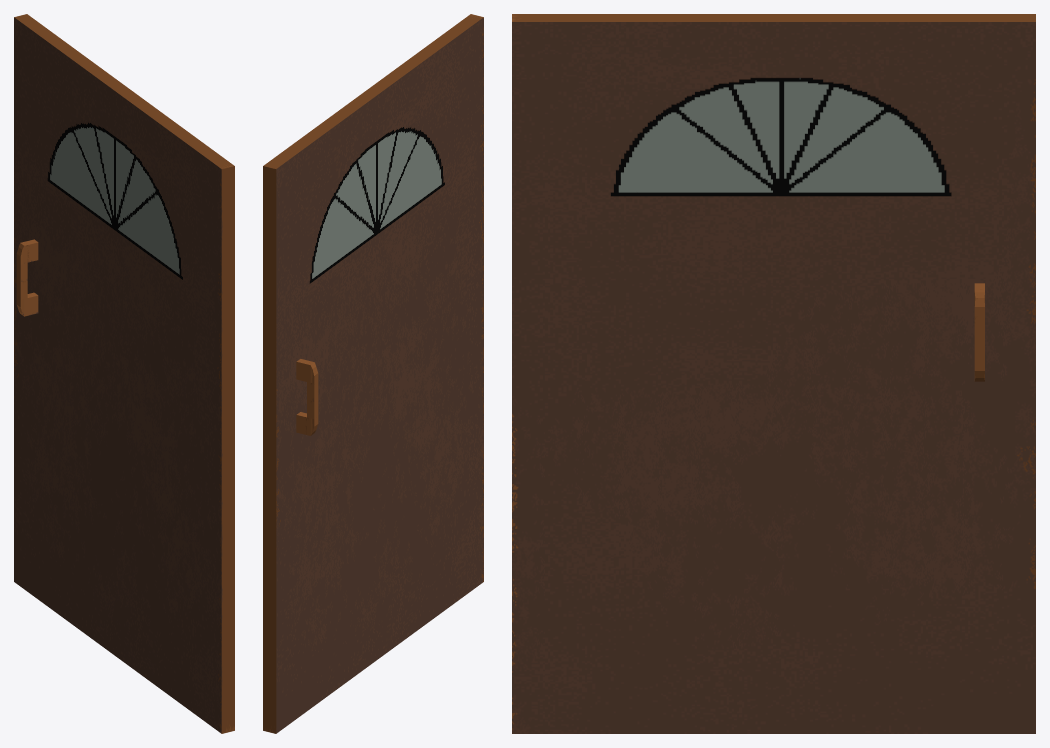
File: door.fbx
3 views of the same model, side by side, from view 1: azimuth 30°, elevation 25°; view 2: azimuth 150°, elevation 25°; view 3: azimuth 270°, elevation 25° (orthographic). The views are drawn at different scales.
Parts seen in each view (by area): view 1: Cube, Cube.002; view 2: Cube, Cube.002; view 3: Cube, Cube.001.
Boxes of the visible parts, x1=… form: Cube: x1=14, y1=14, x2=234, y2=733; Cube.002: x1=16, y1=239, x2=38, y2=316; Cube: x1=263, y1=14, x2=483, y2=733; Cube.002: x1=296, y1=359, x2=318, y2=435; Cube: x1=512, y1=14, x2=1035, y2=733; Cube.001: x1=974, y1=283, x2=984, y2=381.
Size of the model in its own units: 27.09 by 300 by 200.
